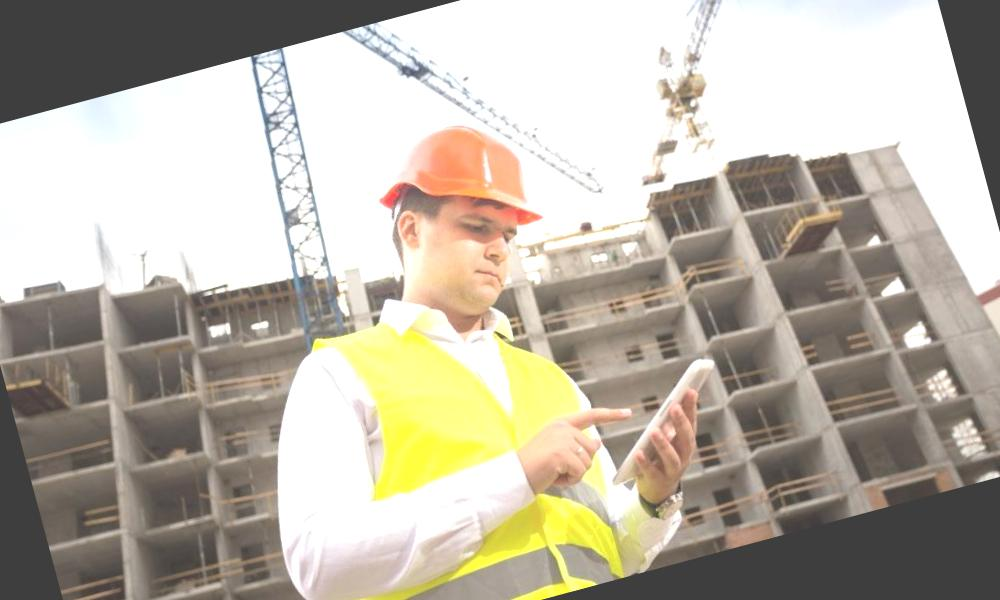helmet: (363, 106, 548, 271)
person: (184, 91, 675, 600)
